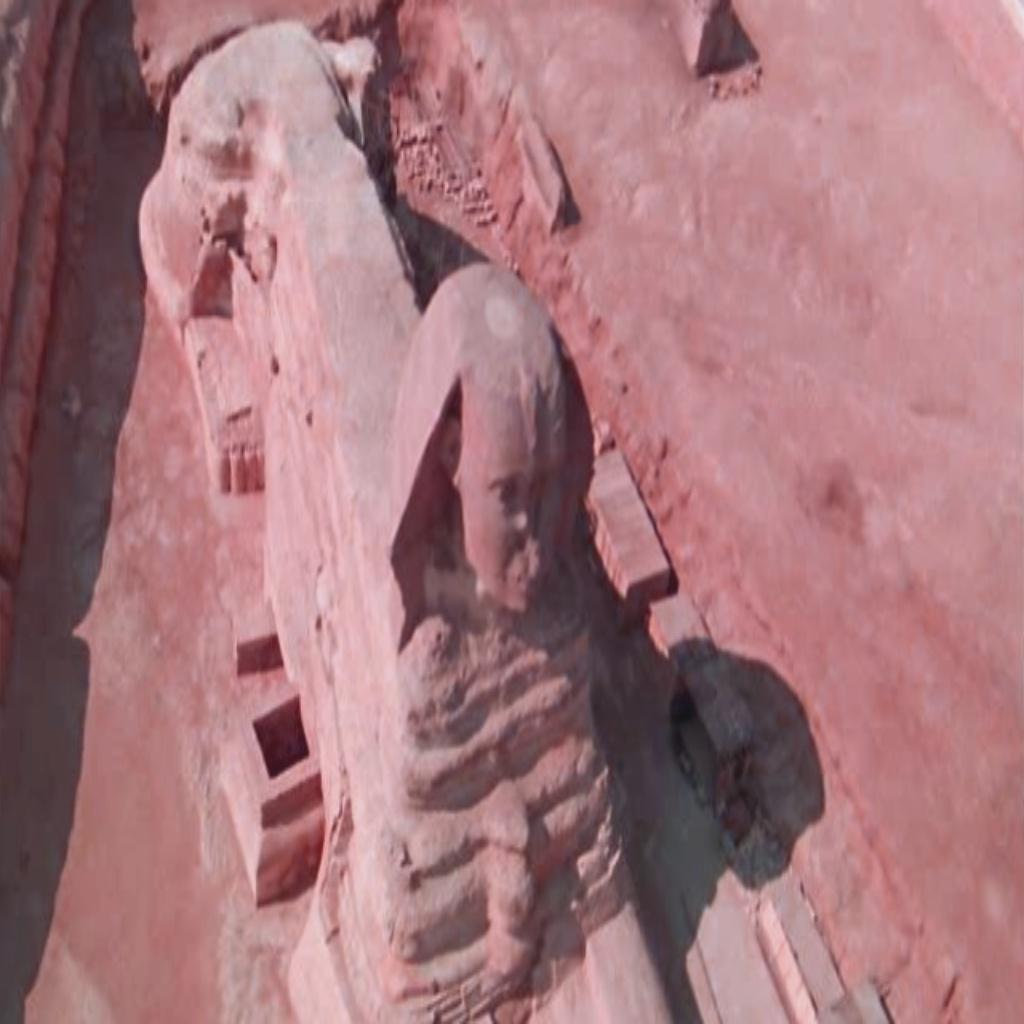Sphinx: (128, 14, 678, 1021)
